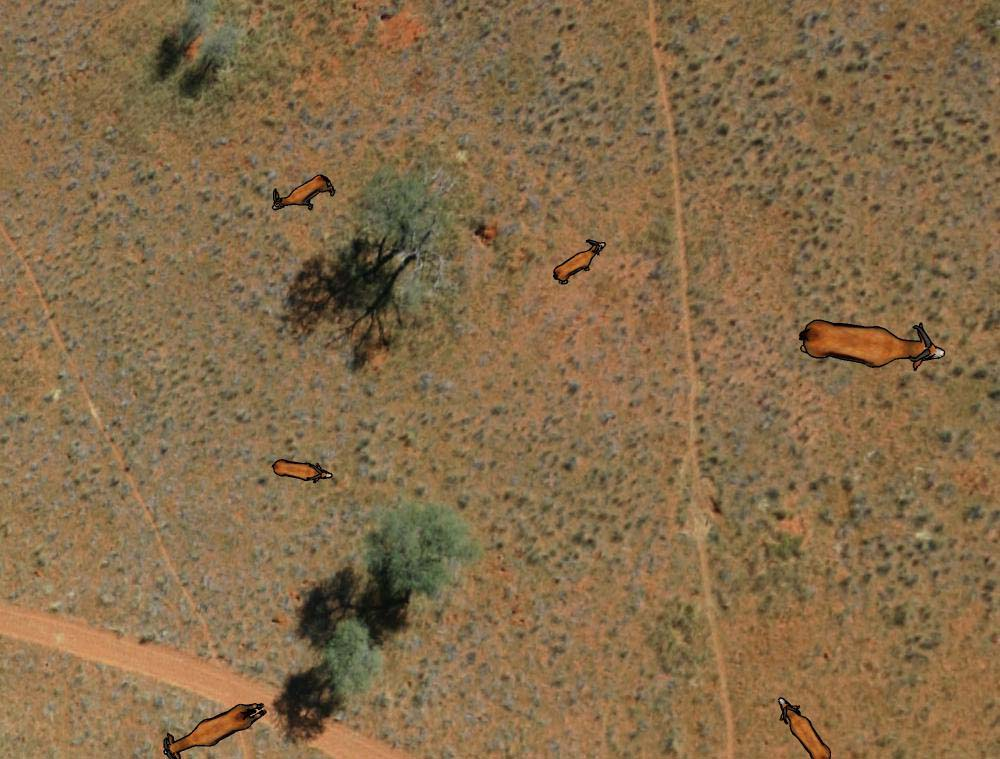springbok: (792, 304, 948, 374), (160, 697, 270, 759), (773, 695, 834, 759), (266, 174, 337, 216), (261, 451, 337, 490), (548, 235, 608, 284)
